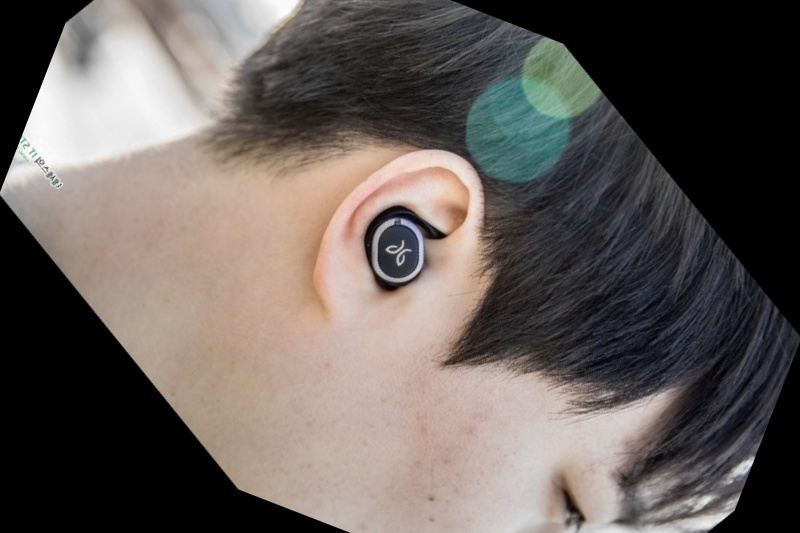earphone: (250, 84, 544, 394)
